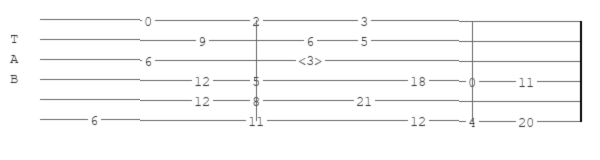0: (144, 14, 156, 27), (468, 74, 480, 87)
11: (248, 114, 268, 127), (518, 74, 538, 87)
12: (194, 94, 214, 107), (194, 74, 214, 87), (410, 114, 430, 127)
18: (410, 74, 430, 87)
2: (252, 14, 264, 27)
20: (518, 114, 538, 127)
21: (356, 94, 376, 107)
3: (360, 14, 372, 27)
4: (468, 114, 480, 127)
5: (252, 74, 264, 87), (360, 34, 372, 47)
6: (90, 114, 102, 127), (144, 54, 156, 67), (306, 34, 318, 47)
8: (252, 94, 264, 107)
9: (198, 34, 210, 47)
harmonic: (298, 53, 326, 67)
